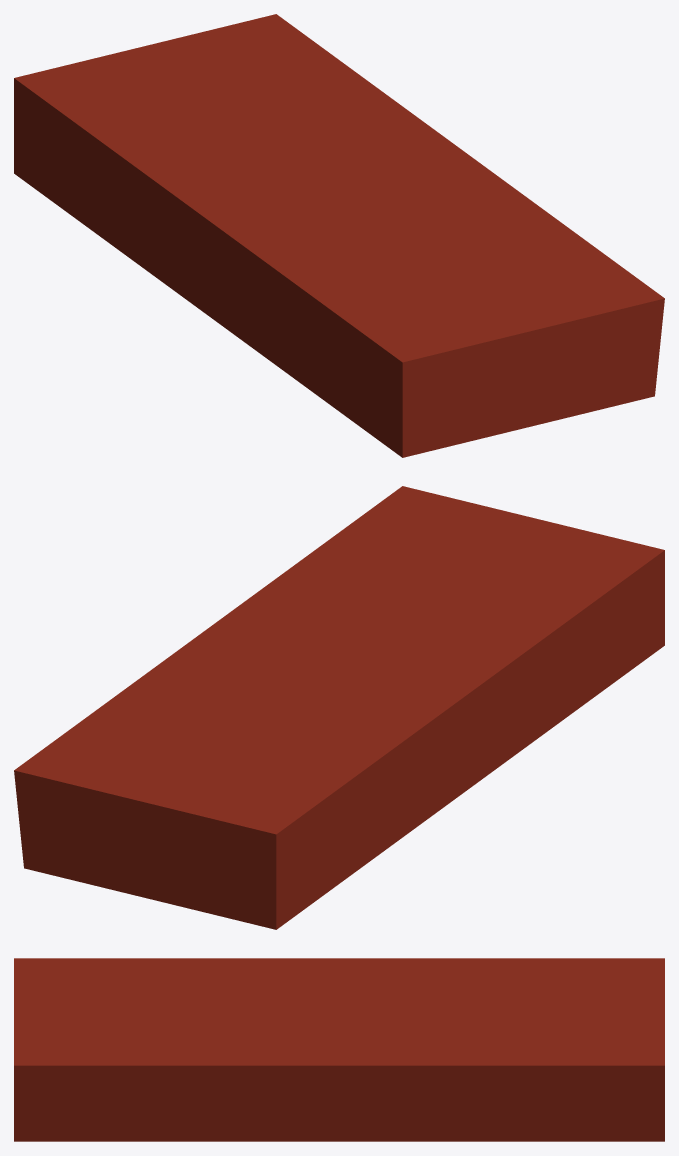
The picture shows the model from 3 angles, top to bottom: view 1: azimuth 30°, elevation 25°; view 2: azimuth 150°, elevation 25°; view 3: azimuth 270°, elevation 25°; orthographic projection. The views are drawn at different scales.
Visible parts, largest first — view 1: geometry_15; view 2: geometry_15; view 3: geometry_15.
Part boxes in pixels (x1,y1,x2,y2): geometry_15: (14,14,664,457); geometry_15: (14,486,664,929); geometry_15: (14,958,664,1141).
Bounding box in the file's own units: 0.0156 × 0.00542 × 0.04.
